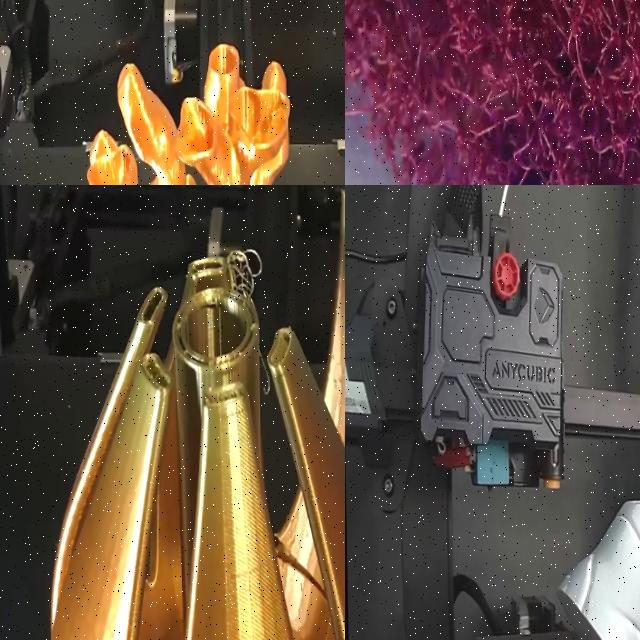spaghetti: (345, 0, 640, 185), (217, 232, 263, 296), (258, 358, 272, 402)
